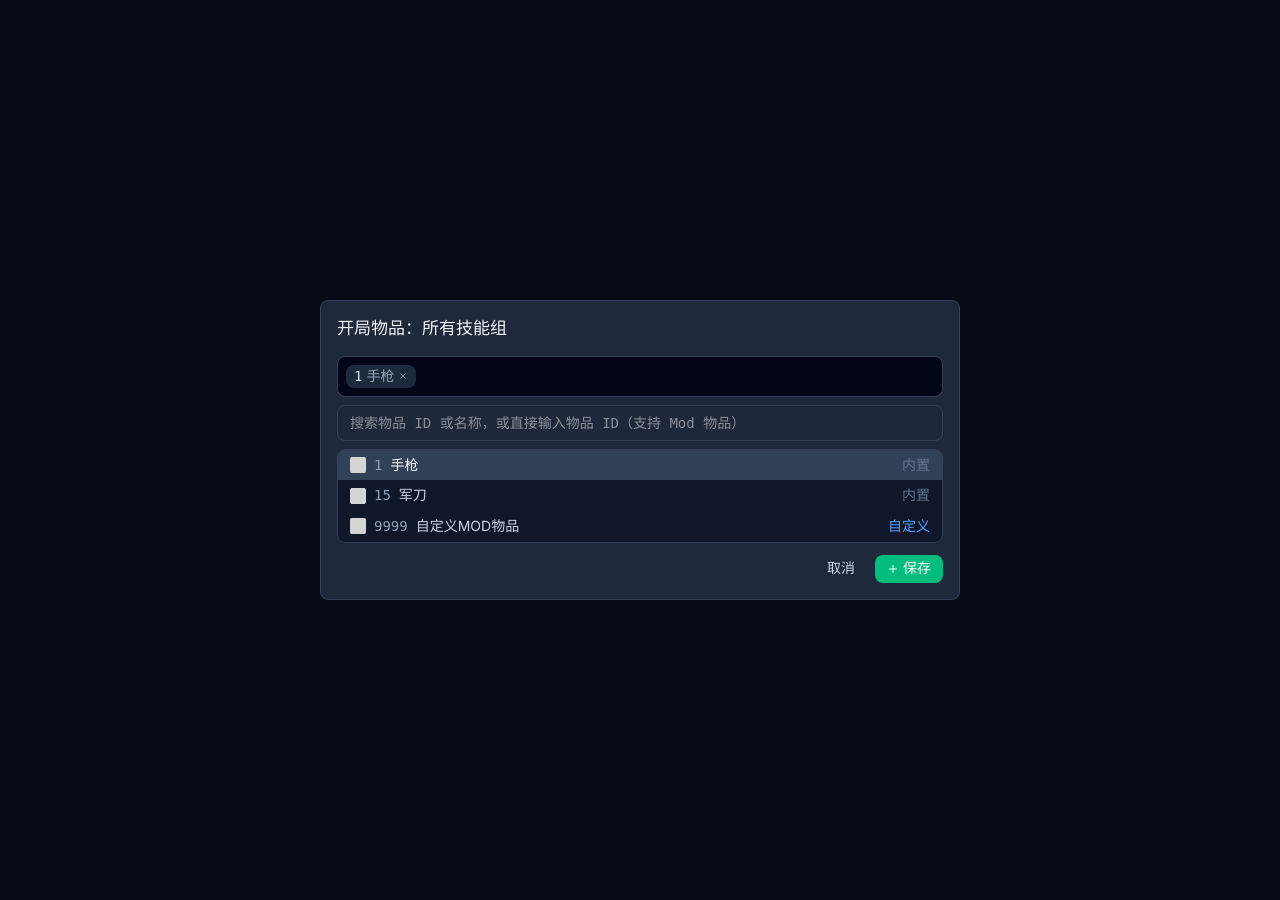
Test: LoadoutItemDialog — 物品选择 › 点击下拉项添加后保持当前视图——不清空输入、不跳回顶部（可连续添加）
The width and height of the screenshot is (1280, 900).
Note: 输入过滤到「军刀」→ 点击添加
Type "军刀" into the field with placeholder "搜索物品 ID 或名称，或直接输入物品 ID（支持 Mod 物品）" at coordinates (640, 423), box 337,405 -> 943,441
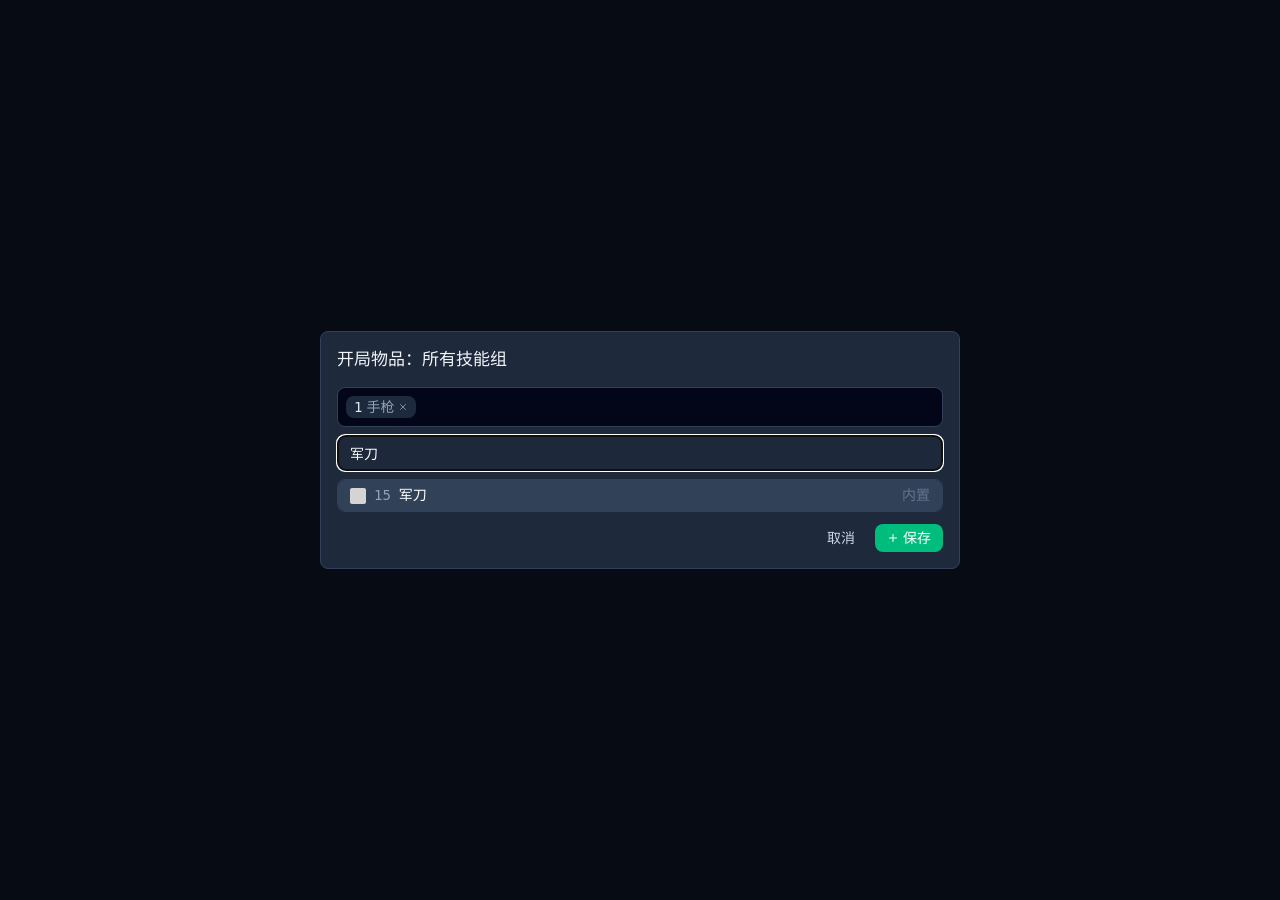
Click the text "军刀" at coordinates (413, 496), box 399,486 -> 427,505
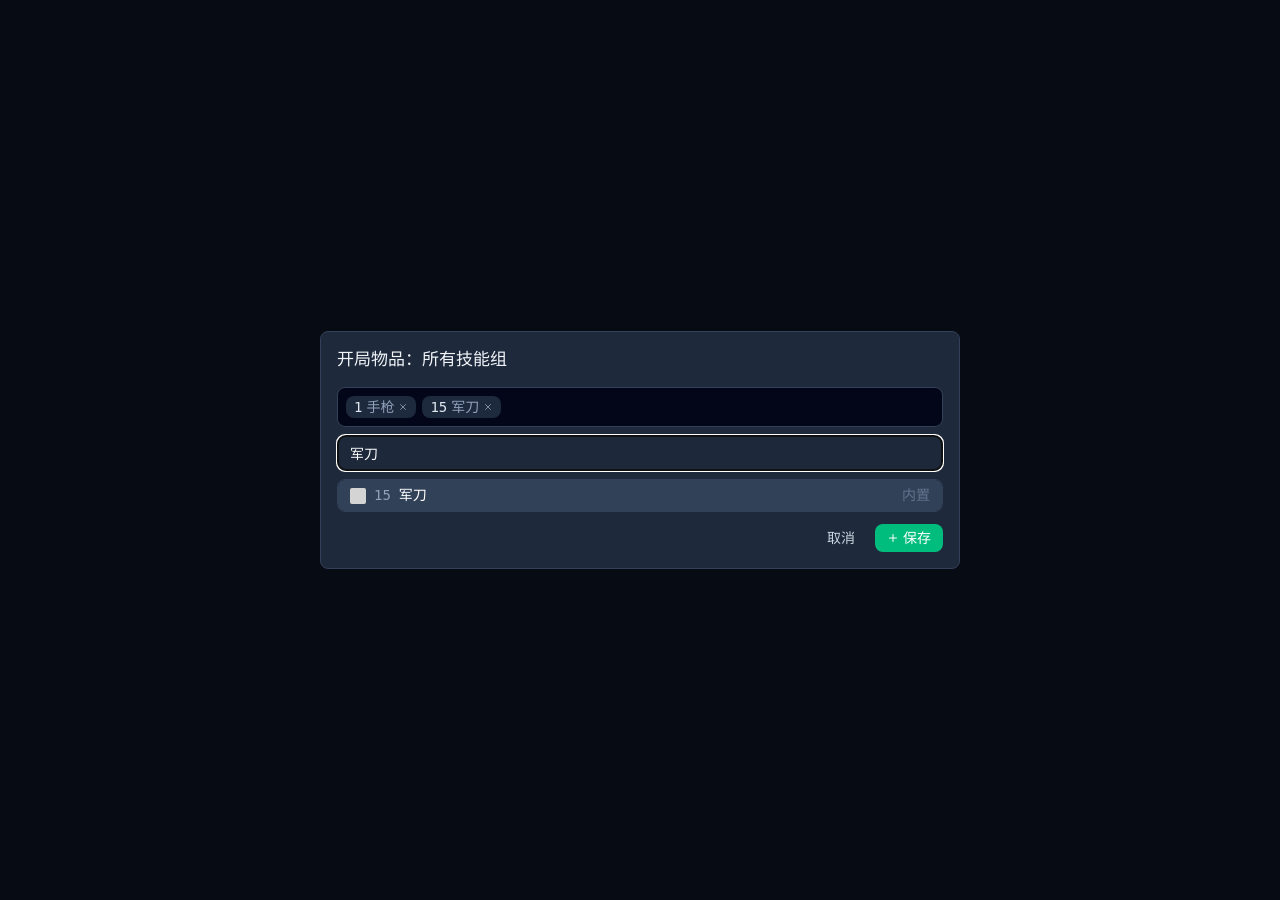
Now the text "15" next to "手枪" is shown, box 430,399 -> 447,415
